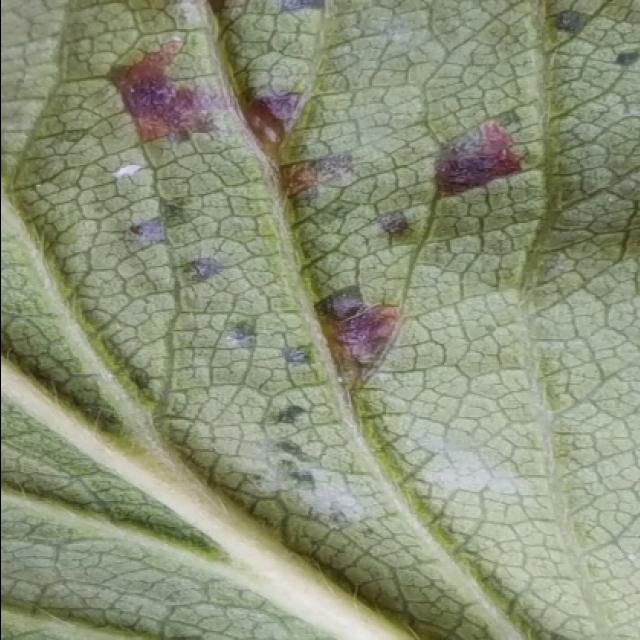Angular Leafspot: (82, 2, 640, 552)
